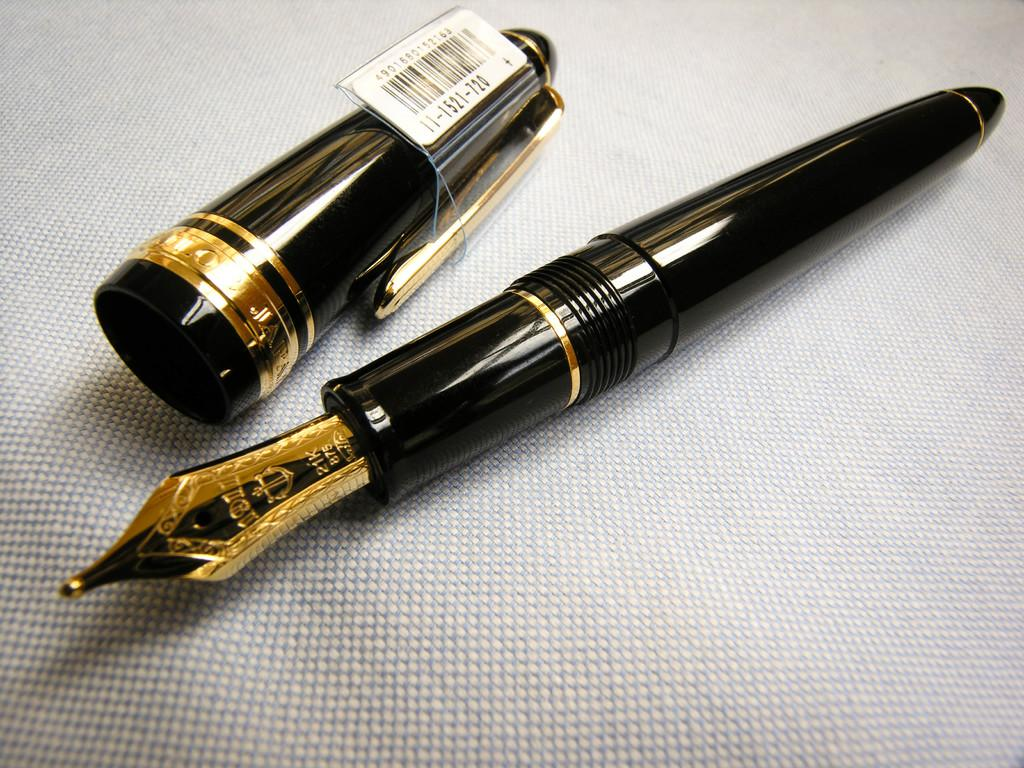pen: (58, 81, 1006, 600)
